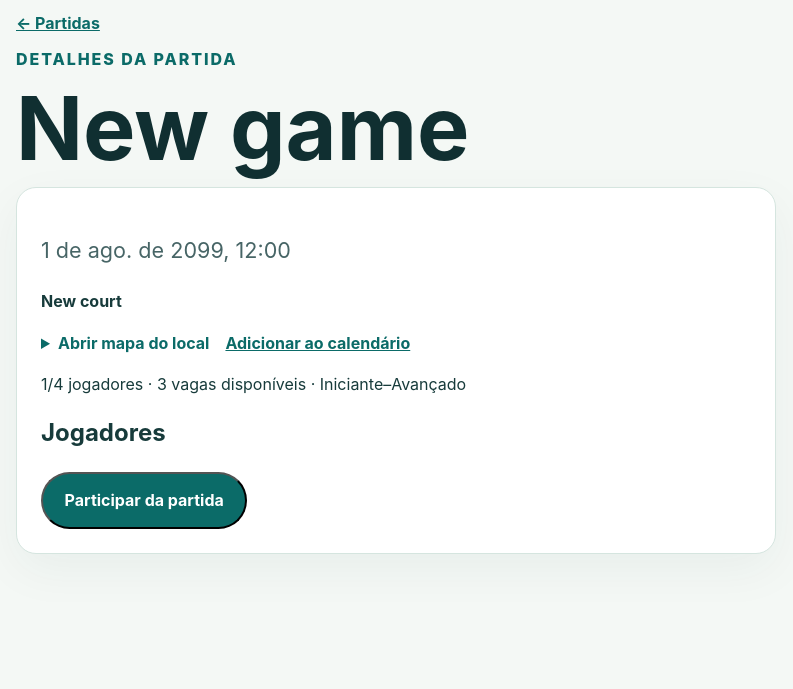
Test case: GameDetailsPage › shows the conflicting game and links to its details after a join conflict
Click the button "Participar da partida": coordinates (144, 500) [41, 472, 247, 529]
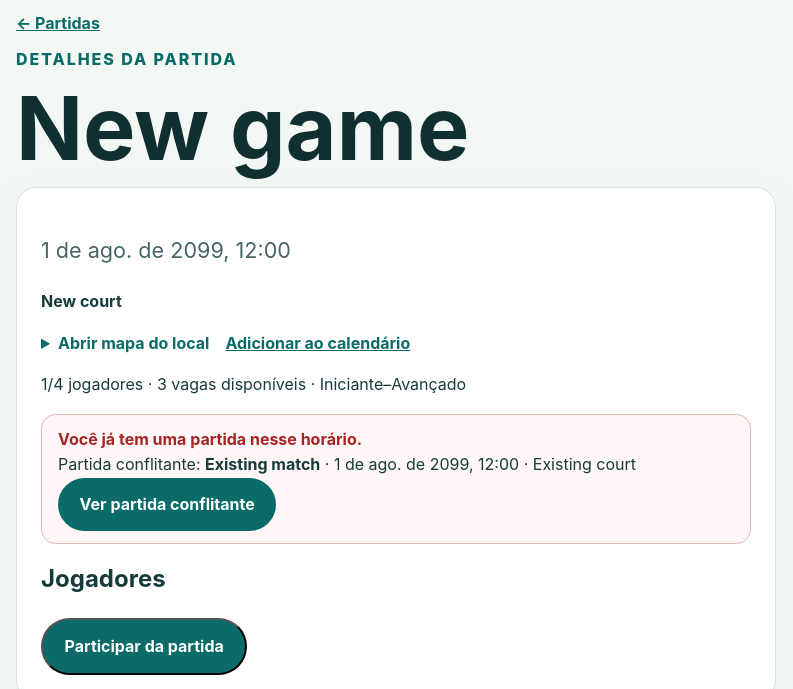
Expected: the message shows "Você já tem uma partida nesse horário.", [58, 429, 362, 449]
Expected: the text "Existing match" is shown, [205, 454, 320, 474]
